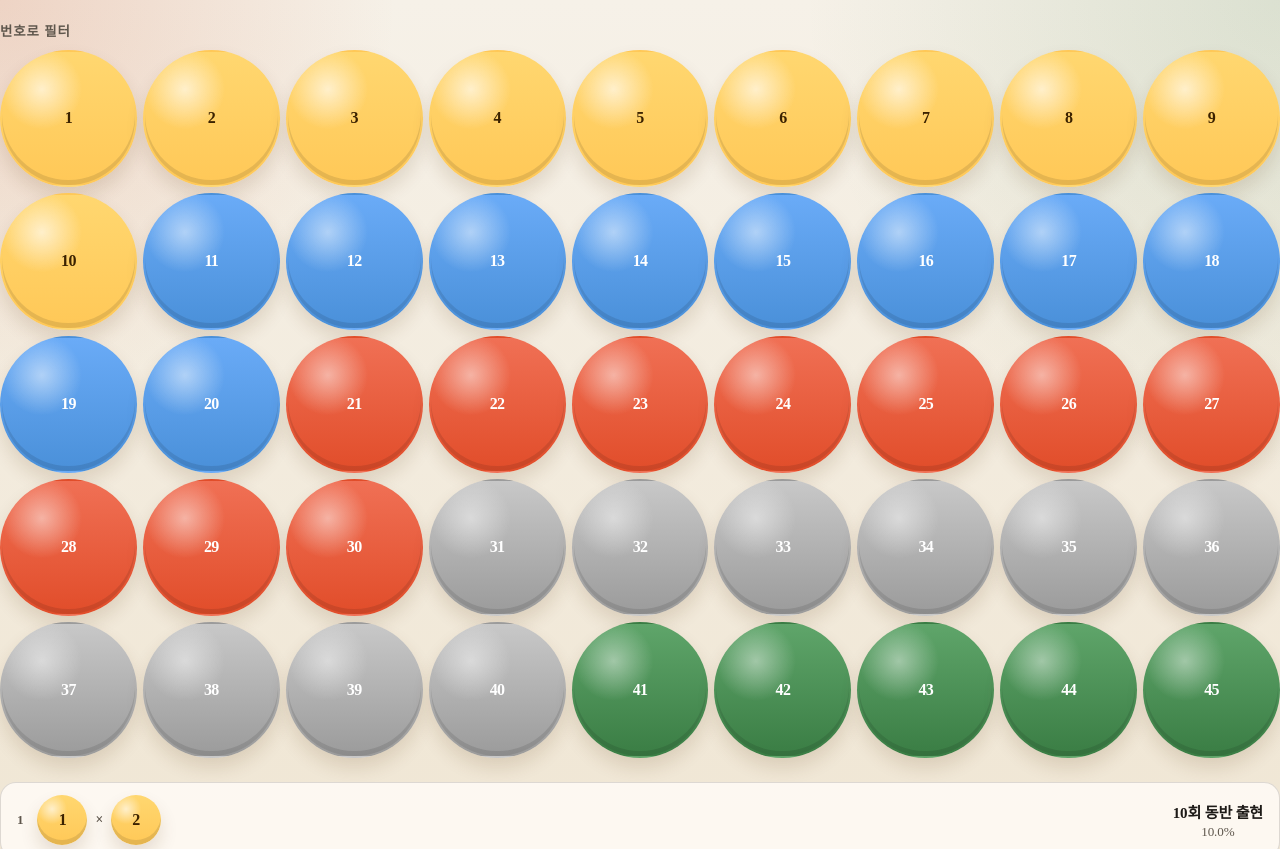
Scenario: 동반 출현 필터 › 전체 조합 fetch가 실패하면 기록 없음 대신 오류와 재시도를 표시한다
What coordinates should you click on to do the following:
click the button "7"
I would click on:
 (926, 118)
Its box is [857,50,994,187].
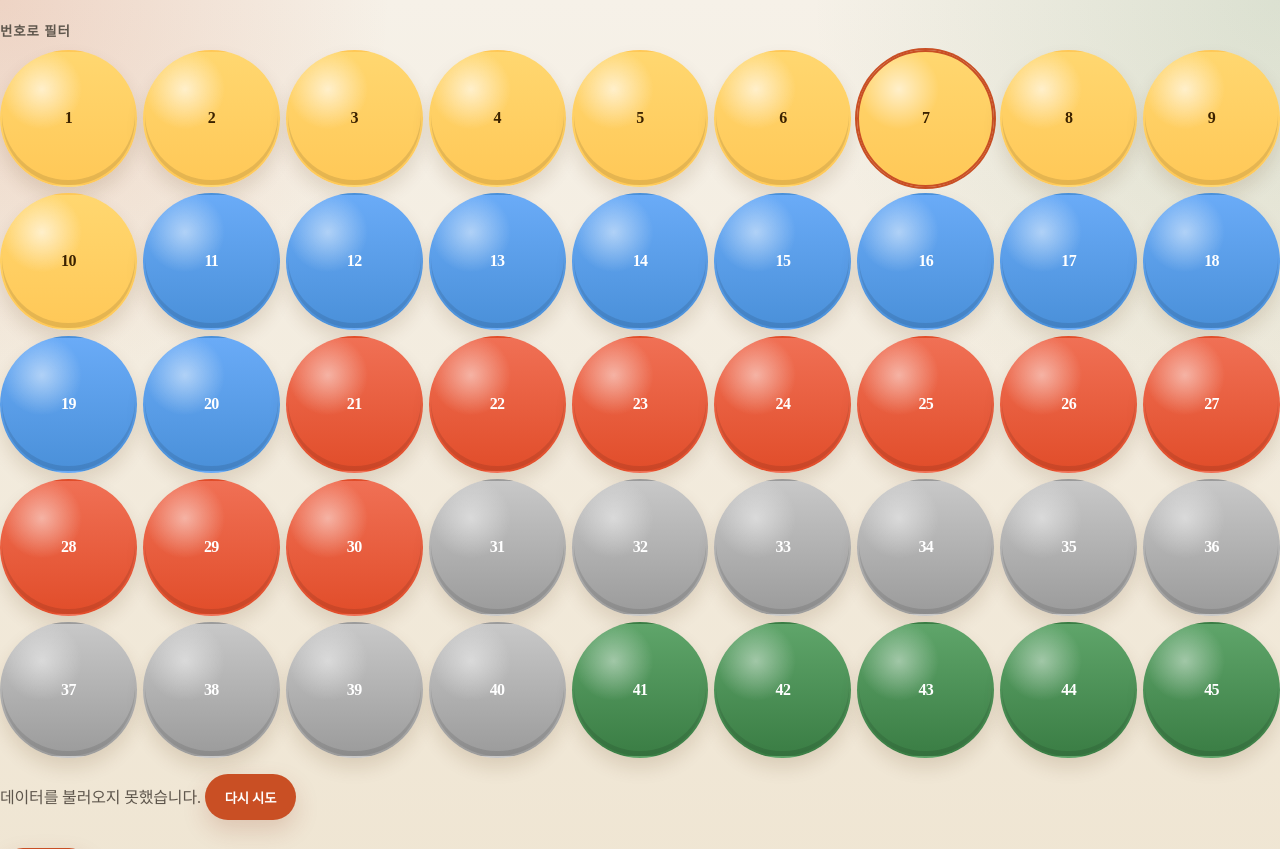
Expected: the text "데이터를 불러오지 못했습니다. 다시 시도" is shown, [0,774,296,820]
Expected: the button "다시 시도" is shown, [205,774,296,820]
